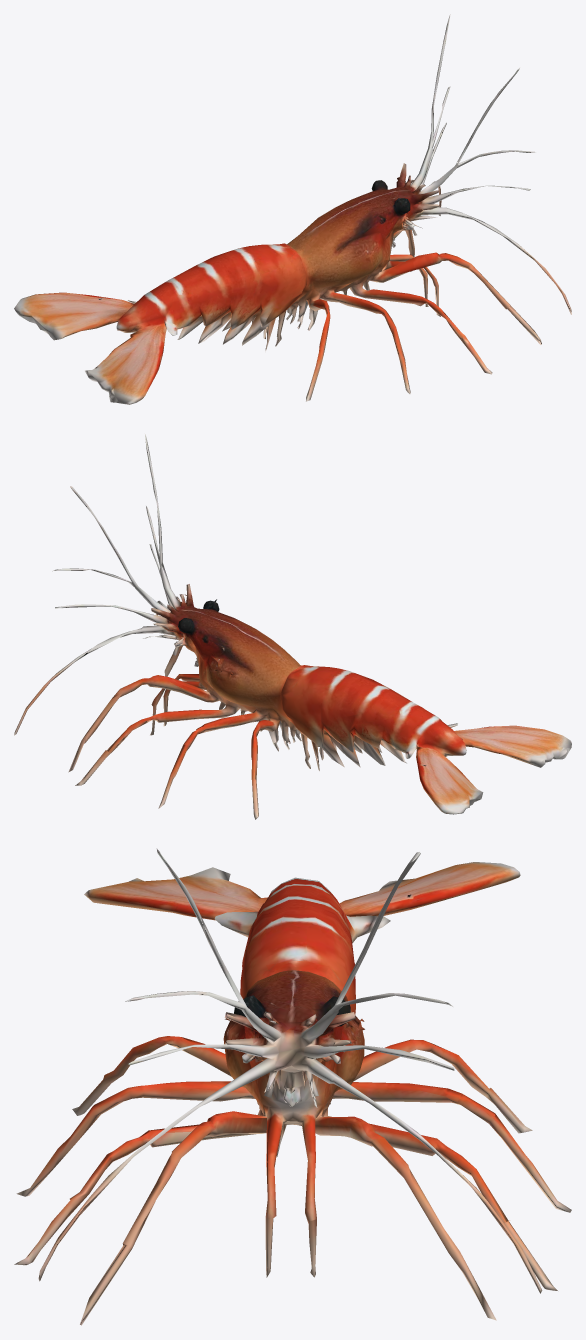
File: shrimp.glb
3 renders of one model, top to bottom at view 1: azimuth 30°, elevation 25°; view 2: azimuth 150°, elevation 25°; view 3: azimuth 270°, elevation 25°, orthographic. The views are drawn at different scales.
Visible parts, largest first — view 1: tripo_node_194faf30-f031-4027-99ef-da7815ee5478; view 2: tripo_node_194faf30-f031-4027-99ef-da7815ee5478; view 3: tripo_node_194faf30-f031-4027-99ef-da7815ee5478.
Boxes of the visible parts, x1,y1,x2,y2 form: tripo_node_194faf30-f031-4027-99ef-da7815ee5478: (14, 14, 571, 404); tripo_node_194faf30-f031-4027-99ef-da7815ee5478: (14, 434, 571, 819); tripo_node_194faf30-f031-4027-99ef-da7815ee5478: (14, 848, 571, 1325).
Bounding box in the file's own units: 1 × 0.5789 × 0.6008.
1 material, 1 textured.
